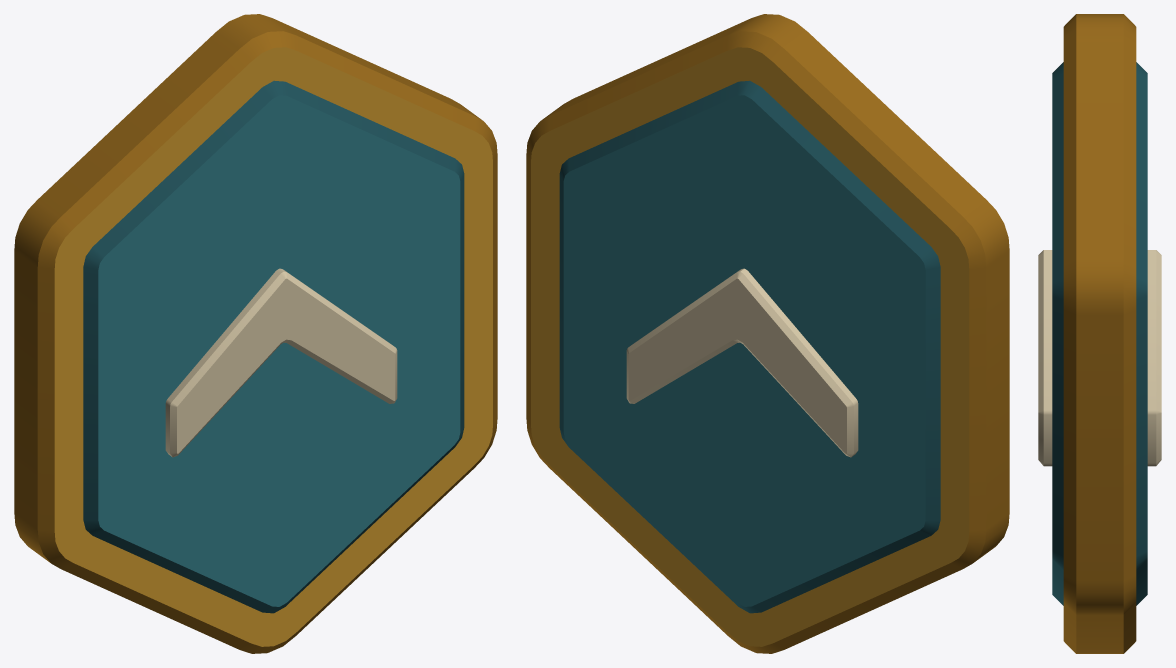
File: Badge_39.glb
3 views of the same model, side by side, from view 1: azimuth 30°, elevation 25°; view 2: azimuth 150°, elevation 25°; view 3: azimuth 270°, elevation 25° (orthographic).
Parts seen in each view (by area): view 1: Badge_39; view 2: Badge_39; view 3: Badge_39.
Part boxes in pixels (x1,y1,x2,y2): Badge_39: (14,14,497,653); Badge_39: (526,14,1009,653); Badge_39: (1038,14,1161,653).
Size of the model in its own units: 1.93 by 2.49 by 0.44.
